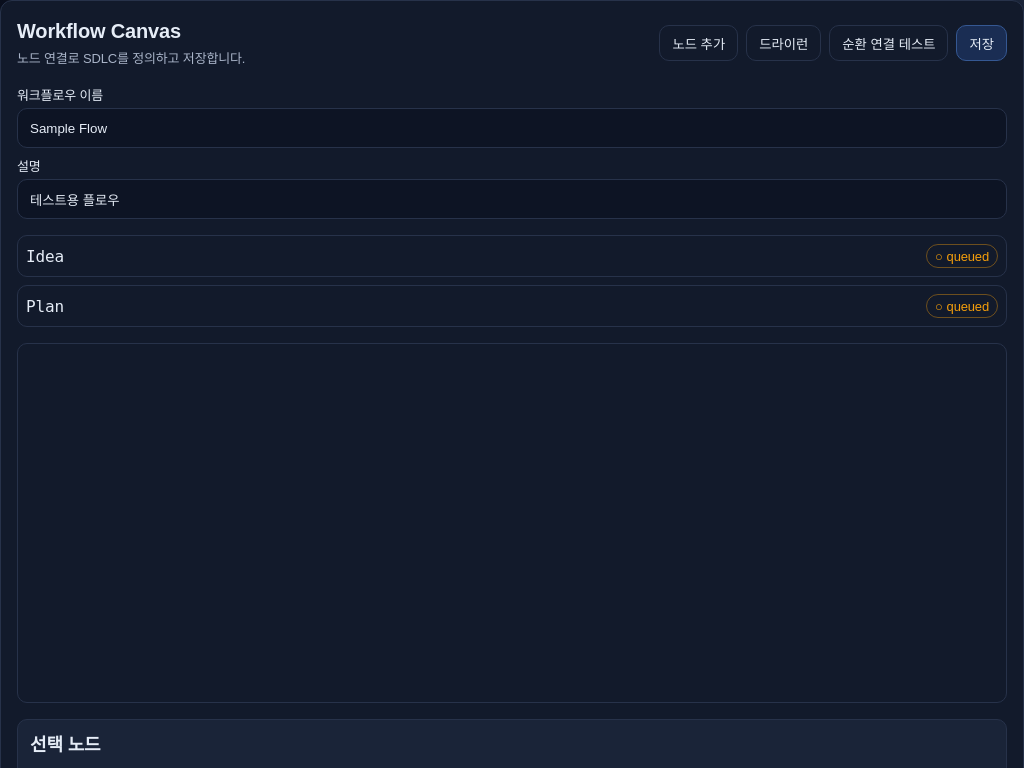
Test: WorkflowBuilder › 단절 그래프 검증 실패 시 드라이런 실패 메시지를 표시한다
What coordinates should you click on to do the following:
click the button "드라이런"
I would click on:
 (784, 43)
Its box is [746,25,821,61].
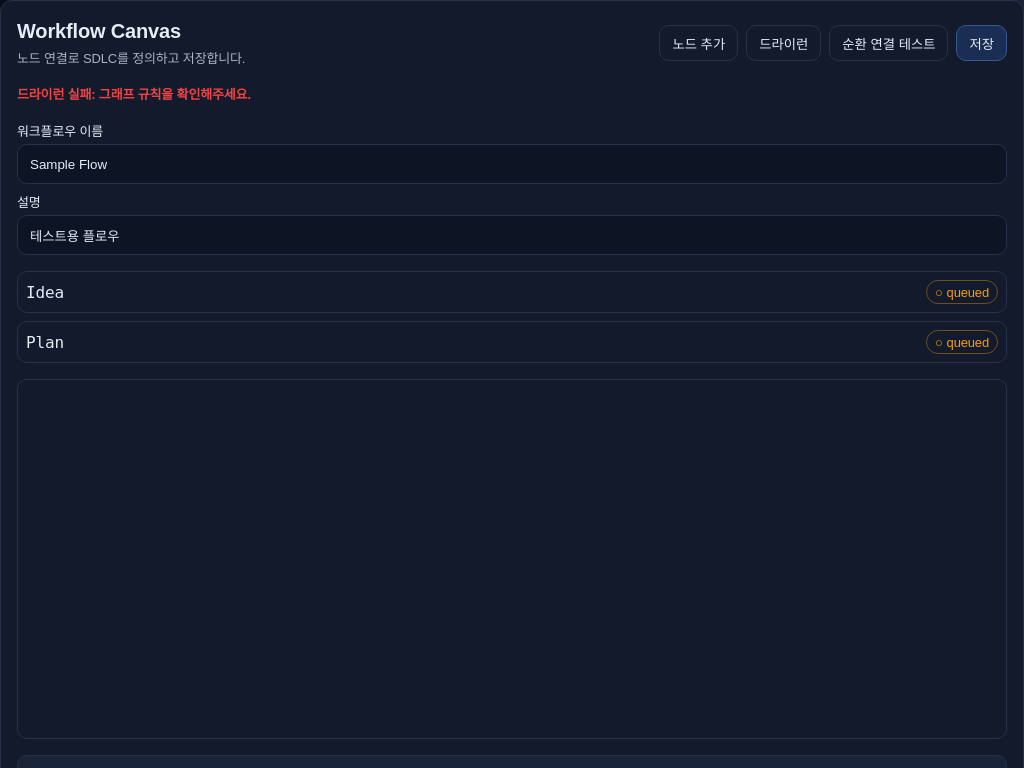
Expected: the text "드라이런 실패: 그래프 규칙을 확인해주세요." is shown, [17,87,251,102]
